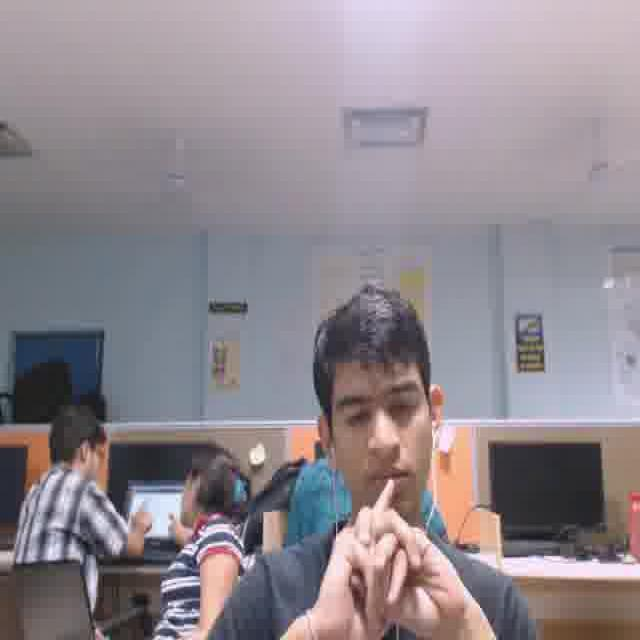Confusion: (327, 354, 424, 514)
